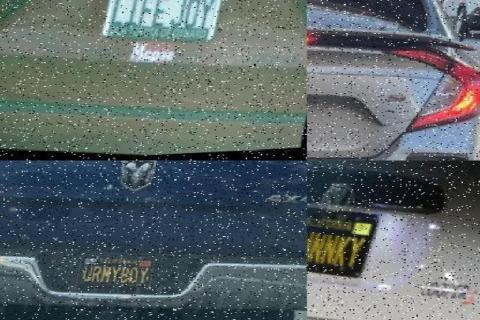LicensePlate: (99, 0, 227, 48), (307, 203, 373, 285), (72, 253, 156, 292)
